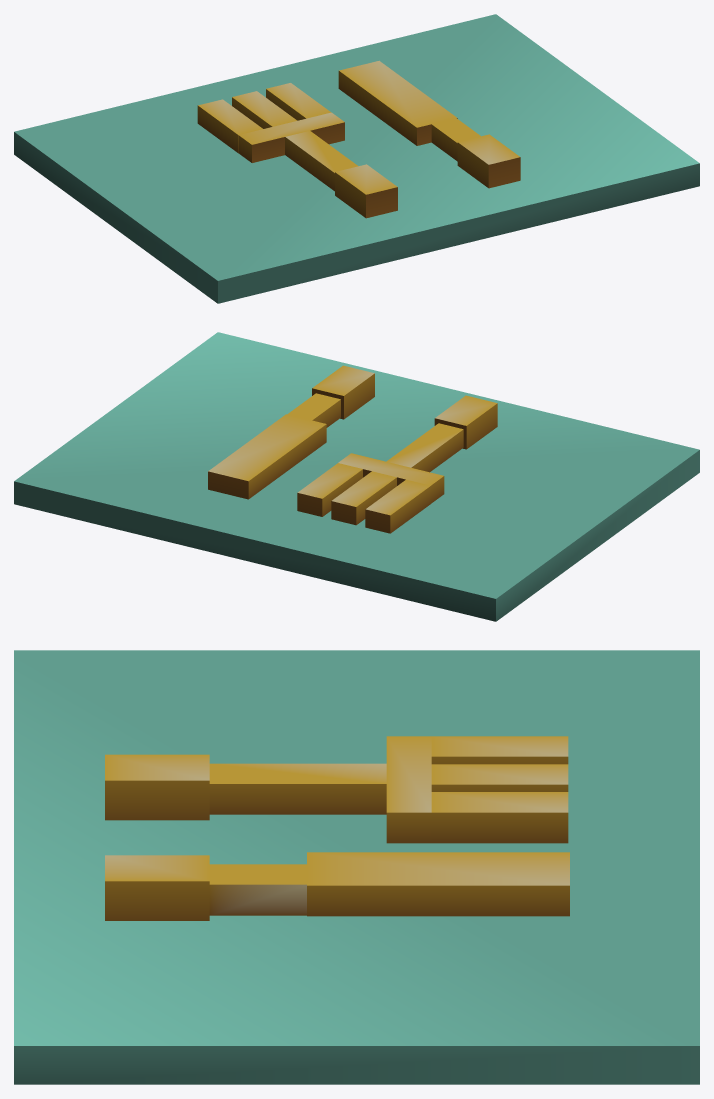
The model's file is Pickup-002-KnifeAndFork.fbx.
The picture shows the model from 3 angles, top to bottom: view 1: azimuth 30°, elevation 25°; view 2: azimuth 150°, elevation 25°; view 3: azimuth 270°, elevation 25°; orthographic projection. The views are drawn at different scales.
Parts seen in each view (by area): view 1: PICKUP-Type02-KnifeAndFork; view 2: PICKUP-Type02-KnifeAndFork; view 3: PICKUP-Type02-KnifeAndFork.
Part boxes in pixels (box(x1,y1,x2,y2)): PICKUP-Type02-KnifeAndFork: box(14, 14, 699, 303); PICKUP-Type02-KnifeAndFork: box(14, 332, 699, 621); PICKUP-Type02-KnifeAndFork: box(14, 650, 699, 1084).
Size of the model in its own units: 6.45 by 0.5938 by 4.72.
